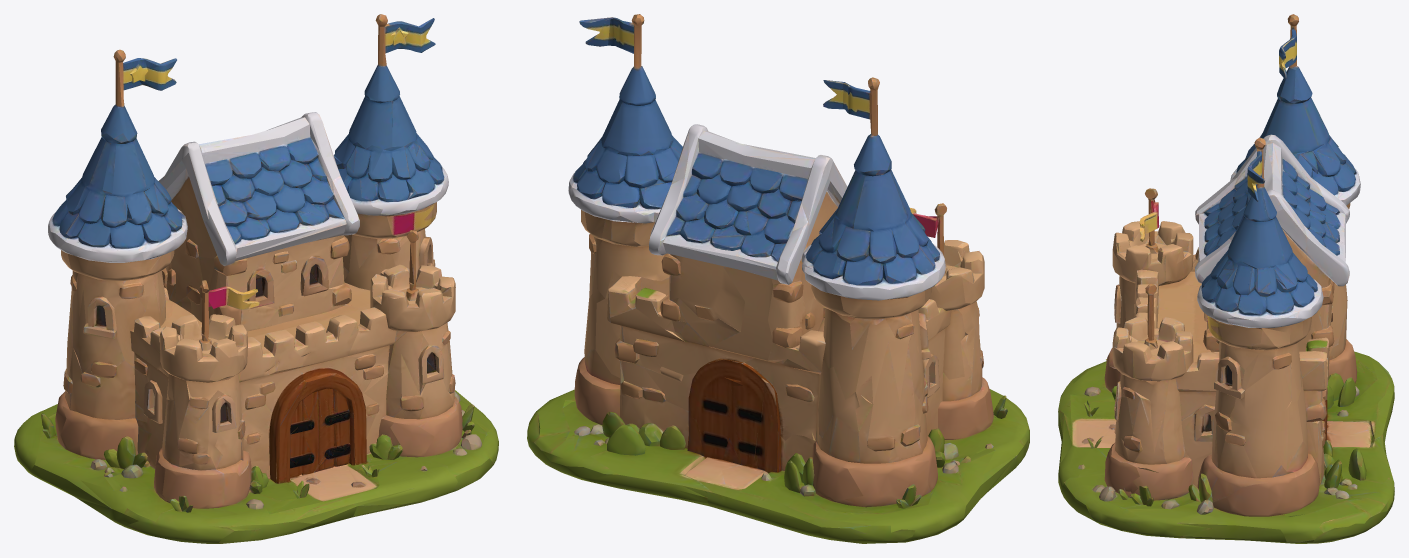
Rendered from kasteel.glb.
3 views of the same model, side by side, from view 1: azimuth 30°, elevation 25°; view 2: azimuth 150°, elevation 25°; view 3: azimuth 270°, elevation 25° (orthographic). The views are drawn at different scales.
Parts seen in each view (by area): view 1: Mesh_0; view 2: Mesh_0; view 3: Mesh_0.
Part boxes in pixels (left/top/right/bottom): Mesh_0: left=14, top=14, right=498, bottom=543; Mesh_0: left=527, top=14, right=1029, bottom=543; Mesh_0: left=1058, top=14, right=1394, bottom=543.
Bounding box in the file's own units: 1.9 × 1.83 × 1.44.
Materials: 1 (1 with a texture image).
